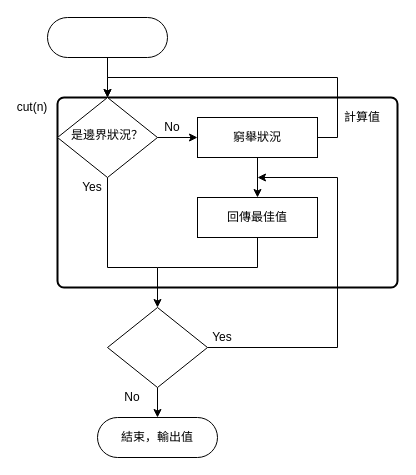
Image size: 416x475. Some labels were removed from this diagram. The centre of each missing label's shape, as x and y in pixels:
"是遞迴呼叫？" belongs at point (157, 347).
"載入基本變/常數" belongs at point (107, 37).
